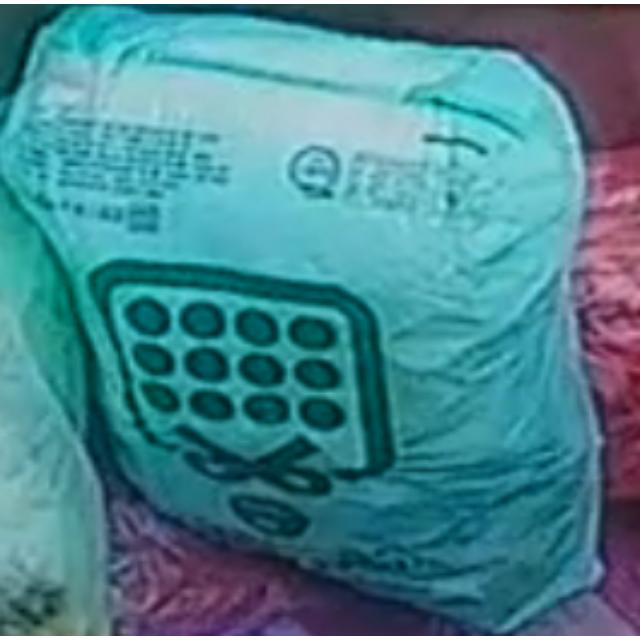general_trashbag: (0, 9, 598, 631), (0, 182, 109, 635)
